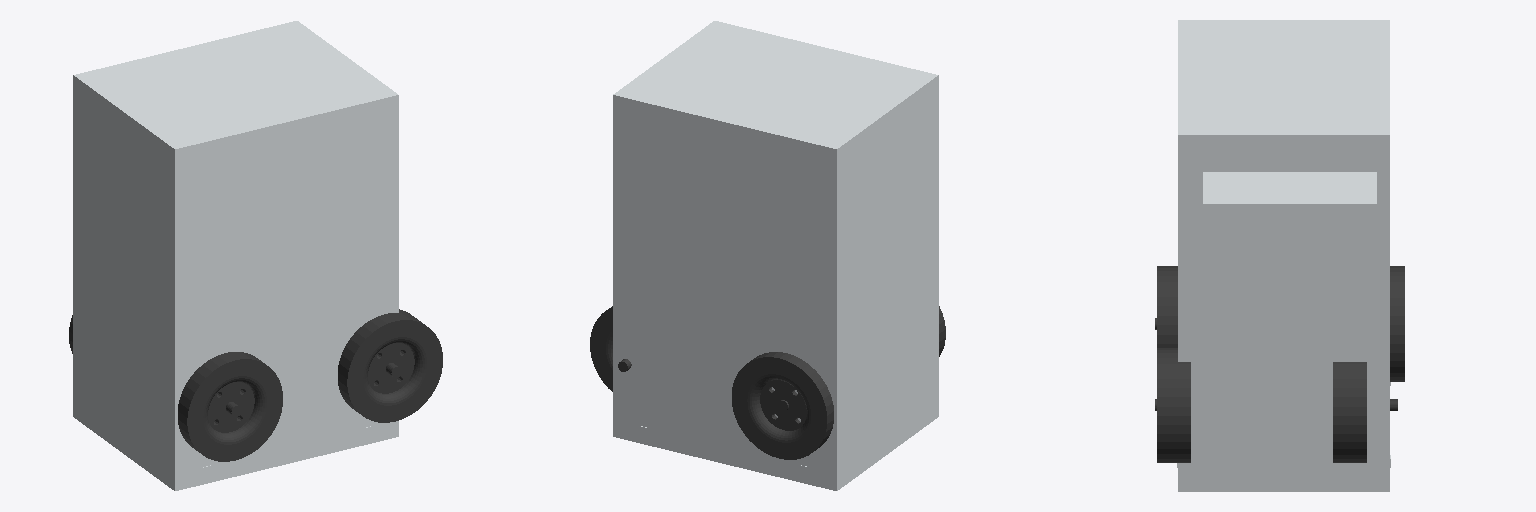
The robot description file, URDF, robot "jared_robot_with_wheels":
<?xml version="1.0" encoding="utf-8"?>
<!-- This URDF was automatically created by SolidWorks to URDF Exporter! Originally created by Stephen Brawner (brawner@gmail.com) 
     Commit Version: 1.6.0-4-g7f85cfe  Build Version: 1.6.7995.38578
     For more information, please see http://wiki.ros.org/sw_urdf_exporter -->
<robot
  name="jared_robot_with_wheels">
  <link
    name="base_link">
    <inertial>
      <origin
        xyz="0.010935 -0.030407 0.054599"
        rpy="0 0 0" />
      <mass
        value="0.92997" />
      <inertia
        ixx="0.0079514"
        ixy="-1.1522E-08"
        ixz="5.938E-10"
        iyy="0.012166"
        iyz="2.7431E-08"
        izz="0.019879" />
    </inertial>
    <visual>
      <origin
        xyz="0 0 0.04"
        rpy="0 0 0" />
      <geometry>
        <mesh
          filename="package://custom_urdf/src/meshes/my_urdf/base_footprint.STL" />
      </geometry>
      <material
        name="">
        <color
          rgba="0.89804 0.91765 0.92941 1" />
      </material>
    </visual>
    <collision>
      <origin
        xyz="0 0 0"
        rpy="0 0 0" />
      <geometry>
        <mesh
          filename="package://custom_urdf/src/meshes/my_urdf/base_footprint.STL" />
      </geometry>
    </collision>
  </link>
  <link
    name="back_left_axel_link">
    <inertial>
      <origin
        xyz="-2.77555756156289E-17 -0.01905 -6.93889390390723E-18"
        rpy="0 0 0" />
      <mass
        value="0.00925034546157725" />
      <inertia
        ixx="1.26237123251708E-06"
        ixy="-2.68139427113751E-39"
        ixz="3.9715781344532E-55"
        iyy="2.86760135787476E-07"
        iyz="5.18315748524543E-24"
        izz="1.26237123251708E-06" />
    </inertial>
    <visual>
      <origin
        xyz="0 0 0"
        rpy="0 0 0" />
      <geometry>
        <mesh
          filename="package://custom_urdf/src/meshes/jared/axel.STL" />
      </geometry>
      <material
        name="">
        <color
          rgba="0.298039215686275 0.298039215686275 0.298039215686275 1" />
      </material>
    </visual>
    <collision>
      <origin
        xyz="0 0 0"
        rpy="0 0 0" />
      <geometry>
        <mesh
          filename="package://custom_urdf/src/meshes/jared/axel.STL" />
      </geometry>
    </collision>
  </link>
  <joint
    name="back_left_axel_joint"
    type="continuous">
    <origin
      xyz="0.13799 0.11056 0.03863"
      rpy="0 0 0" />
    <parent
      link="base_link" />
    <child
      link="back_left_axel_link" />
    <axis
      xyz="0 1 0" />
  </joint>
  <link
    name="back_left_wheel_link">
    <inertial>
      <origin
        xyz="6.74635390052192E-06 1.18862929219116E-05 -0.022225"
        rpy="0 0 0" />
      <mass
        value="0.837780520459389" />
      <inertia
        ixx="0.00151305128968288"
        ixy="-1.05291714394583E-07"
        ixz="3.71419242818938E-21"
        iyy="0.00151267393371603"
        iyz="-4.34580762946475E-21"
        izz="0.00278701331152993" />
    </inertial>
    <visual>
      <origin
        xyz="0 0 0"
        rpy="0 0 0" />
      <geometry>
        <mesh
          filename="package://custom_urdf/src/meshes/jared/wheel.STL" />
      </geometry>
      <material
        name="">
        <color
          rgba="0.298039215686275 0.298039215686275 0.298039215686275 1" />
      </material>
    </visual>
    <collision>
      <origin
        xyz="0 0 0"
        rpy="0 0 0" />
      <geometry>
        <mesh
          filename="package://custom_urdf/src/meshes/jared/wheel.STL" />
      </geometry>
    </collision>
  </link>
  <joint
    name="back_left_wheel_joint"
    type="fixed">
    <origin
      xyz="0 -0.0254 0"
      rpy="0 0 0" />
    <parent
      link="back_left_axel_link" />
    <child
      link="back_left_wheel_link" />
    <axis
      xyz="0 1 0" />
  </joint>
  <link
    name="front_left_axel_link">
    <inertial>
      <origin
        xyz="-1.38777878078145E-17 0.01905 0"
        rpy="0 0 0" />
      <mass
        value="0.00925034546157725" />
      <inertia
        ixx="1.26237123251708E-06"
        ixy="-2.68139427113751E-39"
        ixz="-3.9715781344532E-55"
        iyy="2.86760135787476E-07"
        iyz="-3.62940203436553E-38"
        izz="1.26237123251708E-06" />
    </inertial>
    <visual>
      <origin
        xyz="0 0 0"
        rpy="0 0 0" />
      <geometry>
        <mesh
          filename="package://custom_urdf/src/meshes/jared/axel.STL" />
      </geometry>
      <material
        name="">
        <color
          rgba="0.298039215686275 0.298039215686275 0.298039215686275 1" />
      </material>
    </visual>
    <collision>
      <origin
        xyz="0 0 0"
        rpy="0 0 0" />
      <geometry>
        <mesh
          filename="package://custom_urdf/src/meshes/jared/axel.STL" />
      </geometry>
    </collision>
  </link>
  <joint
    name="front_left_axel_joint"
    type="continuous">
    <origin
      xyz="-0.11601 0.11056 0.03863"
      rpy="0 0 0" />
    <parent
      link="base_link" />
    <child
      link="front_left_axel_link" />
    <axis
      xyz="0 1 0" />
  </joint>
  <link
    name="front_left_wheel_link">
    <inertial>
      <origin
        xyz="6.7463539005358E-06 1.18862929219671E-05 0.022225"
        rpy="0 0 0" />
      <mass
        value="0.837780520459389" />
      <inertia
        ixx="0.00151305128968288"
        ixy="-1.05291714394339E-07"
        ixz="-1.06298982490433E-21"
        iyy="0.00151267393371603"
        iyz="-5.71971116817966E-23"
        izz="0.00278701331152993" />
    </inertial>
    <visual>
      <origin
        xyz="0 0 0"
        rpy="0 0 0" />
      <geometry>
        <mesh
          filename="package://custom_urdf/src/meshes/jared/wheel.STL" />
      </geometry>
      <material
        name="">
        <color
          rgba="0.298039215686275 0.298039215686275 0.298039215686275 1" />
      </material>
    </visual>
    <collision>
      <origin
        xyz="0 0 0"
        rpy="0 0 0" />
      <geometry>
        <mesh
          filename="package://custom_urdf/src/meshes/jared/wheel.STL" />
      </geometry>
    </collision>
  </link>
  <joint
    name="front_left_wheel_joint"
    type="fixed">
    <origin
      xyz="0 0.0254 0"
      rpy="0 0 0" />
    <parent
      link="front_left_axel_link" />
    <child
      link="front_left_wheel_link" />
    <axis
      xyz="0 1 0" />
  </joint>
  <link
    name="back_right_axel_link">
    <inertial>
      <origin
        xyz="0 0.01905 2.08166817117217E-17"
        rpy="0 0 0" />
      <mass
        value="0.00925034546157725" />
      <inertia
        ixx="1.26237123251708E-06"
        ixy="-2.68139427113751E-39"
        ixz="-4.96447266806645E-56"
        iyy="2.86760135787476E-07"
        iyz="-1.49033559525697E-22"
        izz="1.26237123251708E-06" />
    </inertial>
    <visual>
      <origin
        xyz="0 0 0"
        rpy="0 0 0" />
      <geometry>
        <mesh
          filename="package://custom_urdf/src/meshes/jared/axel.STL" />
      </geometry>
      <material
        name="">
        <color
          rgba="0.298039215686275 0.298039215686275 0.298039215686275 1" />
      </material>
    </visual>
    <collision>
      <origin
        xyz="0 0 0"
        rpy="0 0 0" />
      <geometry>
        <mesh
          filename="package://custom_urdf/src/meshes/jared/axel.STL" />
      </geometry>
    </collision>
  </link>
  <joint
    name="back_right_axel_joint"
    type="continuous">
    <origin
      xyz="0.13791 -0.17138 0.038807"
      rpy="0 0 0" />
    <parent
      link="base_link" />
    <child
      link="back_right_axel_link" />
    <axis
      xyz="0 1 0" />
  </joint>
  <link
    name="back_right_wheel_link">
    <inertial>
      <origin
        xyz="6.74635390051498E-06 1.18862929219254E-05 -0.022225"
        rpy="0 0 0" />
      <mass
        value="0.837780520459389" />
      <inertia
        ixx="0.00151305128968288"
        ixy="-1.05291714394394E-07"
        ixz="-9.89021711443493E-20"
        iyy="0.00151267393371603"
        iyz="6.95362221279974E-21"
        izz="0.00278701331152993" />
    </inertial>
    <visual>
      <origin
        xyz="0 0 0"
        rpy="0 0 0" />
      <geometry>
        <mesh
          filename="package://custom_urdf/src/meshes/jared/wheel.STL" />
      </geometry>
      <material
        name="">
        <color
          rgba="0.298039215686275 0.298039215686275 0.298039215686275 1" />
      </material>
    </visual>
    <collision>
      <origin
        xyz="0 0 0"
        rpy="0 0 0" />
      <geometry>`
        <mesh
          filename="package://custom_urdf/src/meshes/jared/wheel.STL" />
      </geometry>
    </collision>
  </link>
  <joint
    name="back_right_wheel_joint"
    type="fixed">
    <origin
      xyz="0 0.0254 0"
      rpy="0 0 0" />
    <parent
      link="back_right_axel_link" />
    <child
      link="back_right_wheel_link" />
    <axis
      xyz="0 1 0" />
  </joint>
  <link
    name="front_right_axel_link">
    <inertial>
      <origin
        xyz="-2.77555756156289E-17 0.01905 5.55111512312578E-17"
        rpy="0 0 0" />
      <mass
        value="0.00925034546157725" />
      <inertia
        ixx="1.26237123251708E-06"
        ixy="6.7231285611538E-24"
        ixz="0"
        iyy="2.86760135787476E-07"
        iyz="-1.58038263479407E-23"
        izz="1.26237123251708E-06" />
    </inertial>
    <visual>
      <origin
        xyz="0 0 0"
        rpy="0 0 0" />
      <geometry>
        <mesh
          filename="package://custom_urdf/src/meshes/jared/axel.STL" />
      </geometry>
      <material
        name="">
        <color
          rgba="0.298039215686275 0.298039215686275 0.298039215686275 1" />
      </material>
    </visual>
    <collision>
      <origin
        xyz="0 0 0"
        rpy="0 0 0" />
      <geometry>
        <mesh
          filename="package://custom_urdf/src/meshes/jared/axel.STL" />
      </geometry>
    </collision>
  </link>
  <joint
    name="front_right_axel_joint"
    type="continuous">
    <origin
      xyz="-0.11609 -0.17138 0.038807"
      rpy="0 0 0" />
    <parent
      link="base_link" />
    <child
      link="front_right_axel_link" />
    <axis
      xyz="0 1 0" />
  </joint>
  <link
    name="front_right_wheel_link">
    <inertial>
      <origin
        xyz="6.74635390054967E-06 1.18862929218769E-05 0.022225"
        rpy="0 0 0" />
      <mass
        value="0.837780520459389" />
      <inertia
        ixx="0.00151305128968288"
        ixy="-1.05291714394854E-07"
        ixz="1.69141346237133E-19"
        iyy="0.00151267393371603"
        iyz="8.80229443436177E-20"
        izz="0.00278701331152993" />
    </inertial>
    <visual>
      <origin
        xyz="0 0 0"
        rpy="0 0 0" />
      <geometry>
        <mesh
          filename="package://custom_urdf/src/meshes/jared/wheel.STL" />
      </geometry>
      <material
        name="">
        <color
          rgba="0.298039215686275 0.298039215686275 0.298039215686275 1" />
      </material>
    </visual>
    <collision>
      <origin
        xyz="0 0 0"
        rpy="0 0 0" />
      <geometry>
        <mesh
          filename="package://custom_urdf/src/meshes/jared/wheel.STL" />
      </geometry>
    </collision>
  </link>
  <joint
    name="front_right_wheel_joint"
    type="fixed">
    <origin
      xyz="0 0.0254 0"
      rpy="0 0 0" />
    <parent
      link="front_right_axel_link" />
    <child
      link="front_right_wheel_link" />
    <axis
      xyz="0 1 0" />
  </joint>

  <gazebo>
    <plugin filename="libgazebo_ros_diff_drive.so" name="differential_drive_controller">
      <alwaysOn>true</alwaysOn>
      <updateRate>50</updateRate>
      <leftJoint>front_left_wheel_joint</leftJoint>
      <leftJoint>back_left_wheel_joint</leftJoint>
      <rightJoint>front_right_wheel_joint</rightJoint>
      <rightJoint>back_right_wheel_joint</rightJoint>
      <wheelSeparation>0.4</wheelSeparation>
      <wheelDiameter>0.215</wheelDiameter>
      <torque>20</torque>
      <commandTopic>cmd_vel</commandTopic>
      <odometryTopic>odom</odometryTopic>
      <odometryFrame>odom</odometryFrame>
      <robotBaseFrame>base_link</robotBaseFrame>
    </plugin>
  </gazebo>

  
  <!-- <gazebo>
    <plugin name="skid_steer_drive_controller" filename="libgazebo_ros_skid_steer_drive.so">
      <updateRate>100.0</updateRate>
      <robotNamespace>/</robotNamespace>
      <leftFrontJoint>front_left_wheel_joint</leftFrontJoint>
      <rightFrontJoint>front_right_wheel_joint</rightFrontJoint>
      <leftRearJoint>back_left_wheel_joint</leftRearJoint>
      <rightRearJoint>back_right_wheel_joint</rightRearJoint>
      <wheelSeparation>0.4</wheelSeparation>
      <wheelDiameter>0.215</wheelDiameter>
      <robotBaseFrame>base_link</robotBaseFrame>
      <torque>20</torque>
      <topicName>cmd_vel</topicName>
      <broadcastTF>false</broadcastTF>
    </plugin>
  </gazebo> -->


</robot>

--- Render facts (derived) ---
The picture shows the robot from 3 angles, left to right: view 1: azimuth 30°, elevation 25°; view 2: azimuth 150°, elevation 25°; view 3: azimuth 270°, elevation 25°; orthographic projection.
Robot: jared_robot_with_wheels — 9 links, 8 joints (4 continuous, 4 fixed); root link base_link; default pose: every joint at zero.
Visible links, largest first — view 1: base_link, back_right_wheel_link, front_right_wheel_link; view 2: base_link, front_left_wheel_link, back_left_wheel_link; view 3: base_link, back_right_wheel_link, back_left_wheel_link, front_left_wheel_link, front_right_wheel_link.
Boxes of the visible links, x1,y1,x2,y2 form: base_link: (73,21,398,490); back_right_wheel_link: (338,309,442,422); front_right_wheel_link: (178,352,282,461); base_link: (613,21,938,490); front_left_wheel_link: (732,352,833,459); back_left_wheel_link: (590,306,612,391); base_link: (1177,20,1390,491); back_right_wheel_link: (1157,348,1190,462); back_left_wheel_link: (1333,362,1366,462); front_left_wheel_link: (1390,266,1404,381); front_right_wheel_link: (1157,266,1177,347).
Size in the robot's own frame: 0.4101 by 0.3296 by 0.5188 metres.
Meshes: 3 distinct files referenced, 9 mesh visuals loaded (3 binary STL).
